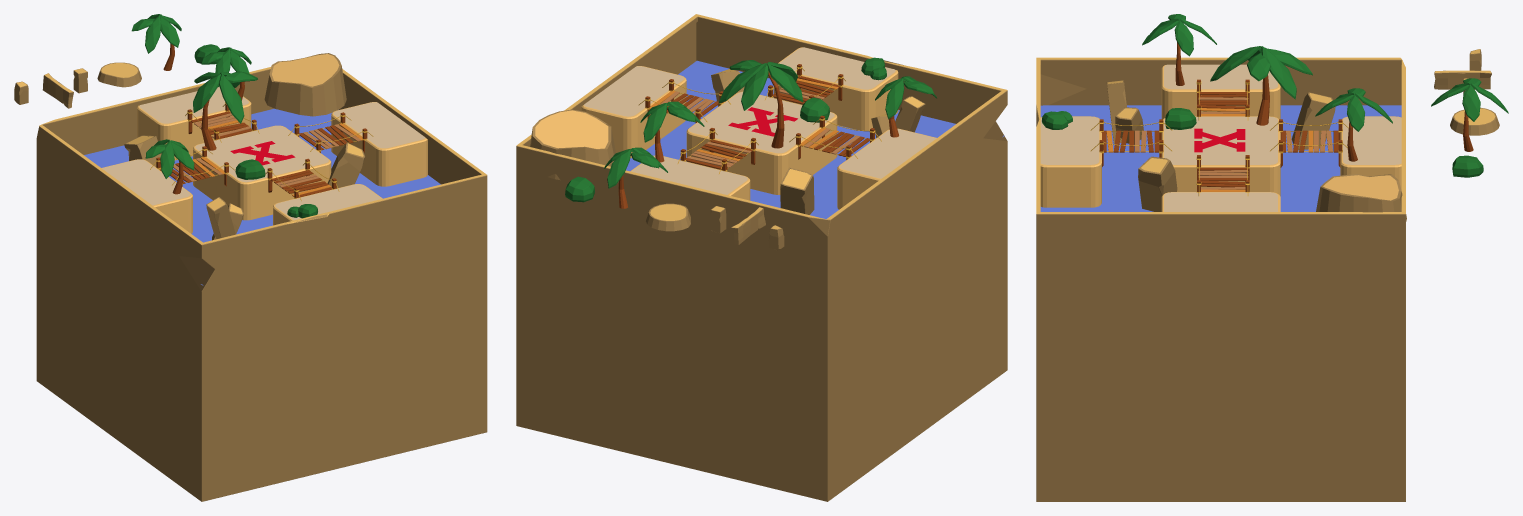
The model's file is Map3.glb.
3 renders of one model, left to right at view 1: azimuth 30°, elevation 25°; view 2: azimuth 150°, elevation 25°; view 3: azimuth 270°, elevation 25°, orthographic. The views are drawn at different scales.
Visible parts, largest first — view 1: Plane.001-col, Water, Platform-col, Cube.013, Small Platform-col.001, Big Rock, Plane.002, Cube.012, Cube.014, Small Platform.002-col, Cube.015, Circle.009 (+12 smaller); view 2: Plane.001-col, Water, Platform-col, Cube.013, Plane.002, Cube.012, Small Platform.001-col, Cube.014, Circle.009, Cube.015, Small Platform-col.001, Cube.016 (+16 smaller); view 3: Plane.001-col, Water, Cube.013, Plane.002, Small Platform.001-col, Cube.015, Cube.016, Cube.012, Cube.014, Platform-col, Small Platform-col, Big Rock (+17 smaller).
Part boxes in pixels (left/top/right/bottom): Plane.001-col: left=36, top=69, right=487, bottom=501; Water: left=84, top=108, right=440, bottom=285; Platform-col: left=193, top=125, right=331, bottom=220; Cube.013: left=195, top=125, right=328, bottom=182; Small Platform-col.001: left=331, top=102, right=427, bottom=186; Big Rock: left=264, top=53, right=346, bottom=116; Plane.002: left=39, top=67, right=486, bottom=244; Cube.012: left=333, top=102, right=425, bottom=148; Cube.014: left=102, top=159, right=190, bottom=205; Small Platform.002-col: left=137, top=96, right=251, bottom=160; Cube.015: left=275, top=184, right=381, bottom=220; Circle.009: left=272, top=54, right=339, bottom=86; Plane.001-col: left=516, top=16, right=1007, bottom=501; Water: left=626, top=60, right=1004, bottom=219; Platform-col: left=686, top=91, right=837, bottom=194; Cube.013: left=689, top=92, right=834, bottom=153; Plane.002: left=516, top=14, right=1007, bottom=219; Cube.012: left=584, top=66, right=683, bottom=116; Small Platform.001-col: left=773, top=47, right=898, bottom=131; Cube.014: left=840, top=129, right=936, bottom=178; Circle.009: left=535, top=110, right=608, bottom=148; Cube.015: left=779, top=47, right=895, bottom=89; Small Platform-col.001: left=581, top=66, right=686, bottom=158; Cube.016: left=631, top=156, right=747, bottom=194; Plane.001-col: left=1036, top=59, right=1405, bottom=501; Water: left=1040, top=105, right=1401, bottom=211; Cube.013: left=1164, top=116, right=1277, bottom=164; Plane.002: left=1036, top=57, right=1405, bottom=213; Small Platform.001-col: left=1040, top=116, right=1101, bottom=207; Cube.015: left=1040, top=116, right=1099, bottom=164; Cube.016: left=1343, top=116, right=1401, bottom=164; Cube.012: left=1164, top=192, right=1277, bottom=211; Cube.014: left=1164, top=64, right=1277, bottom=89; Platform-col: left=1161, top=116, right=1280, bottom=196; Small Platform-col: left=1161, top=65, right=1280, bottom=119; Big Rock: left=1316, top=174, right=1406, bottom=221.
Bounding box in the file's own units: 62.03 × 67.7 × 79.26.
